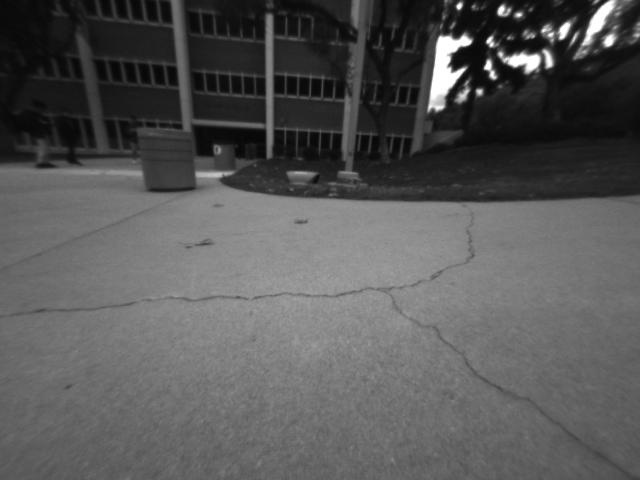trashcan: (134, 124, 199, 196)
